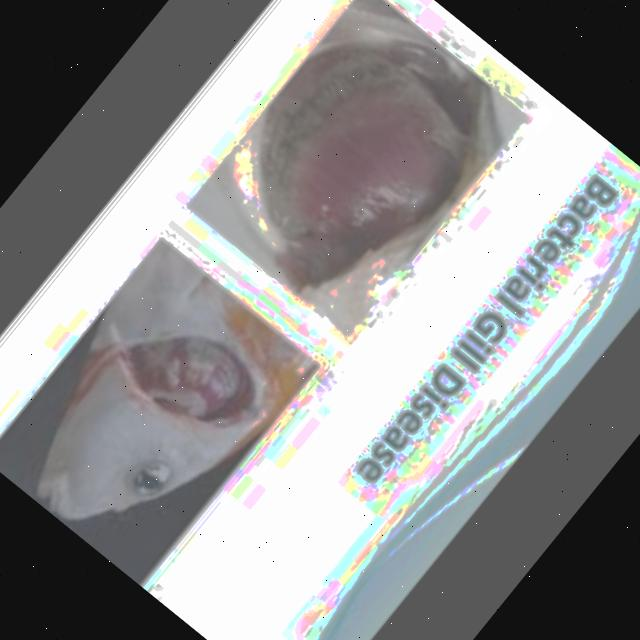Flavobacterium -Bacterial Gill Disease-: (222, 7, 495, 329), (218, 7, 491, 293), (38, 241, 313, 519), (38, 242, 313, 520)
